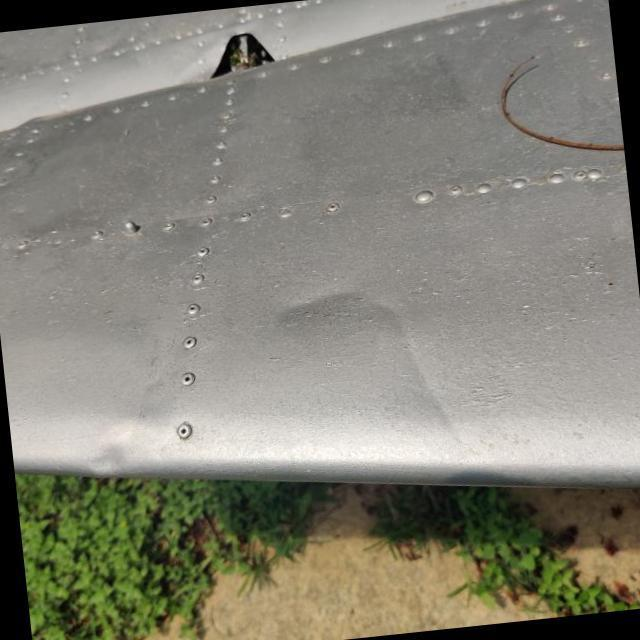Dent: (328, 278, 495, 462), (244, 234, 386, 366), (60, 414, 150, 503)
